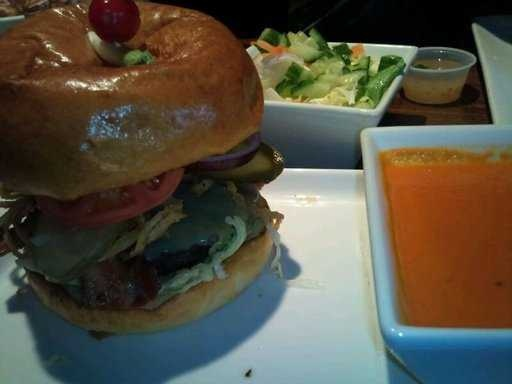hamburger: (12, 9, 277, 334)
